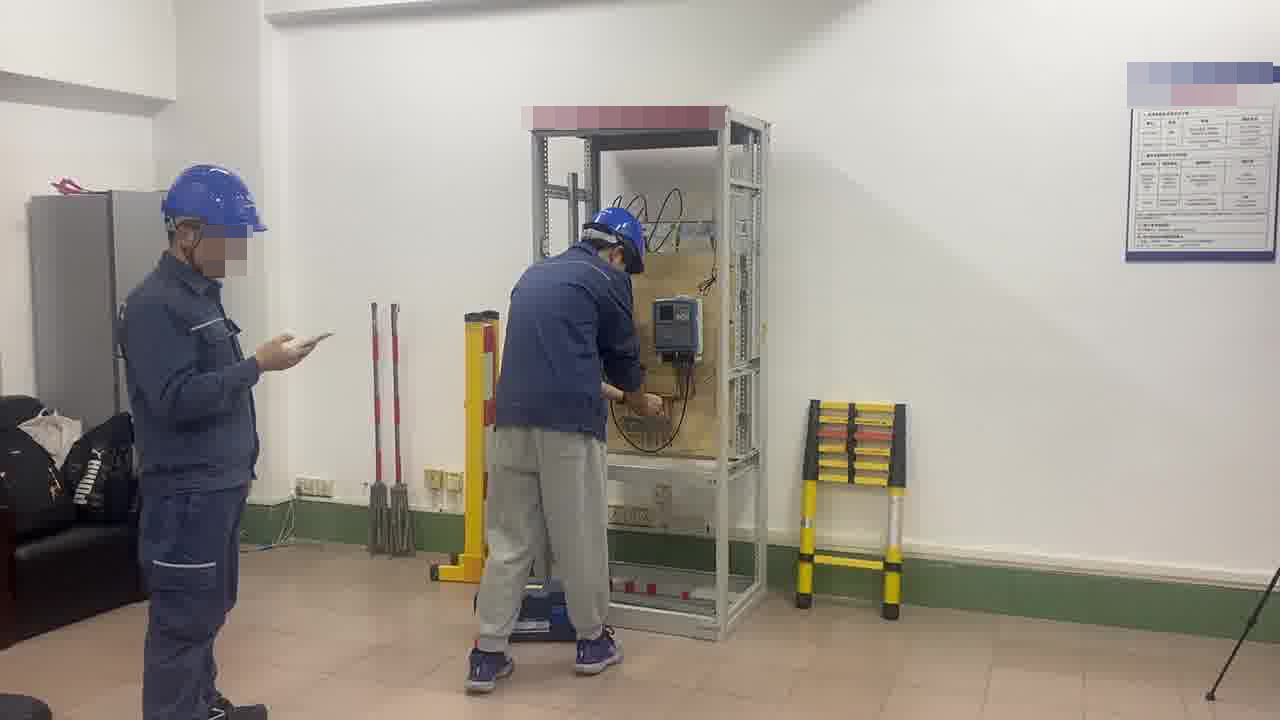downcloth: (481, 420, 615, 648)
downsuit: (141, 496, 250, 720)
halt: (159, 165, 266, 274), (585, 208, 650, 275)
hand: (249, 332, 318, 372), (612, 384, 664, 417)
inear: (174, 222, 207, 260)
noear: (603, 240, 632, 269)
person: (112, 164, 289, 719), (474, 203, 656, 667)
upsuit: (117, 259, 262, 483), (492, 242, 636, 412)
